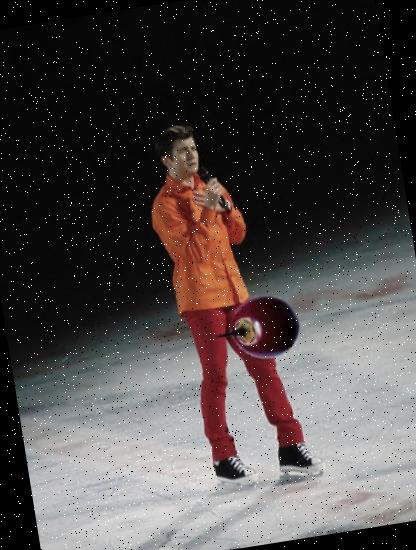Tamarillo: (220, 286, 307, 374)
